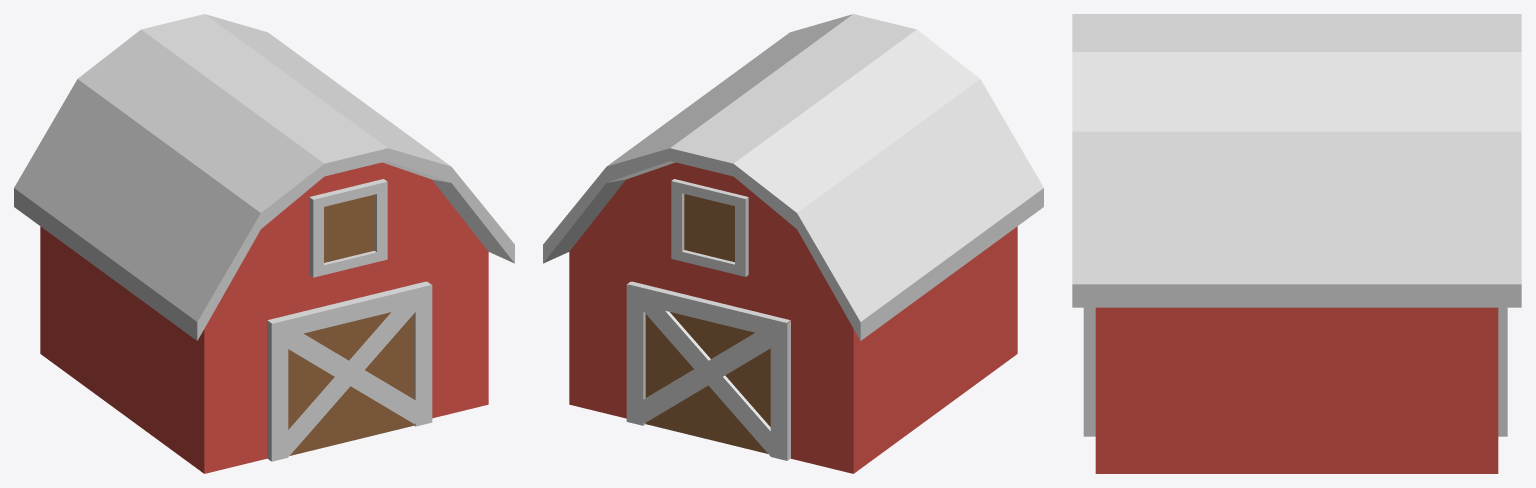
The model's file is celeiro.fbx.
3 views of the same model, side by side, from view 1: azimuth 30°, elevation 25°; view 2: azimuth 150°, elevation 25°; view 3: azimuth 270°, elevation 25° (orthographic). The views are drawn at different scales.
Visible parts, largest first — view 1: Celeiro; view 2: Celeiro; view 3: Celeiro.
Part boxes in pixels (x1,y1,x2,y2): Celeiro: (14,14,514,473); Celeiro: (543,14,1043,473); Celeiro: (1072,14,1521,473).
Bounding box in the file's own units: 422 × 369 × 422.
